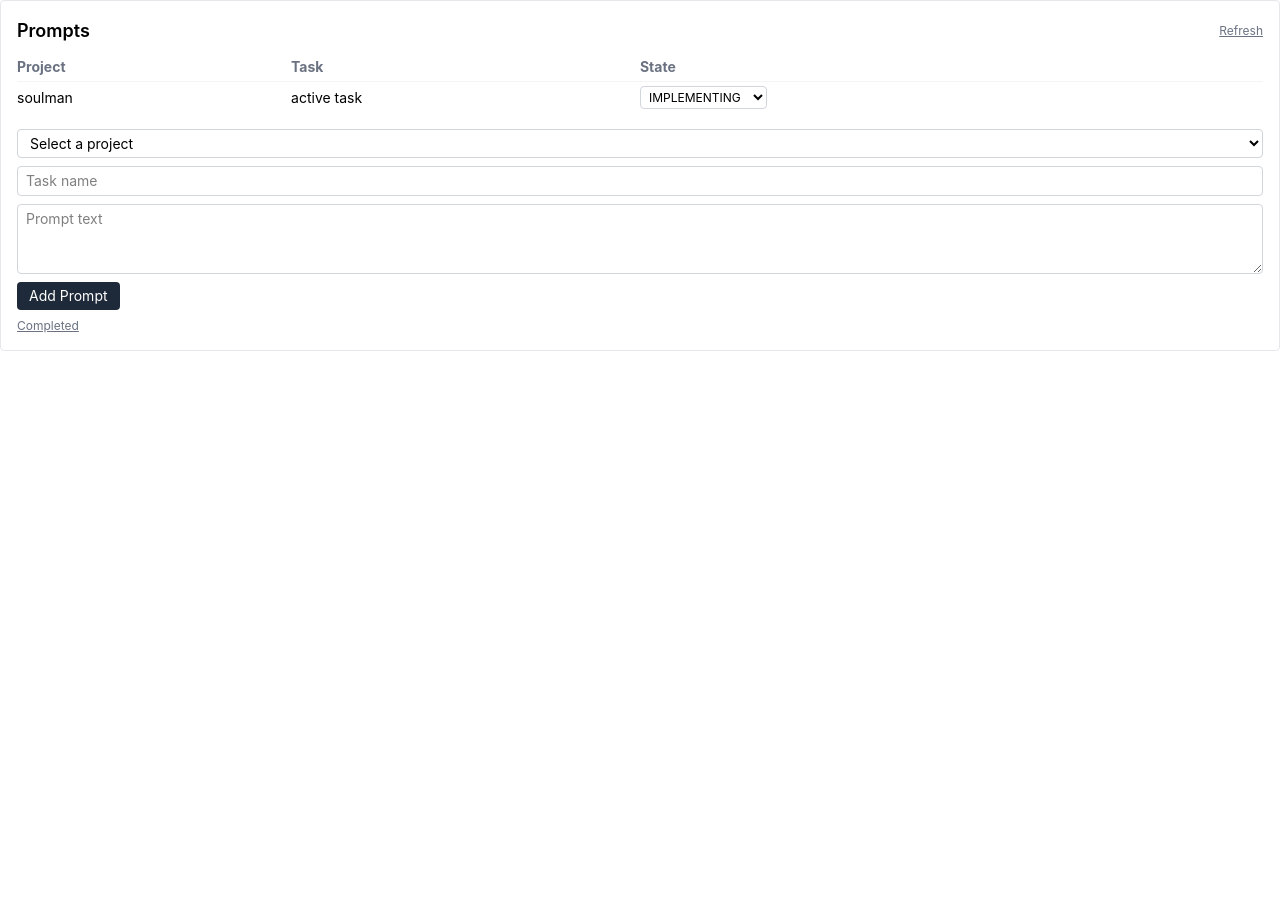
Test: PromptsPanel › closes the modal without disturbing the existing prompts table
The image size is (1280, 900).
Click the button "Completed": (48, 326) [17,318,79,334]
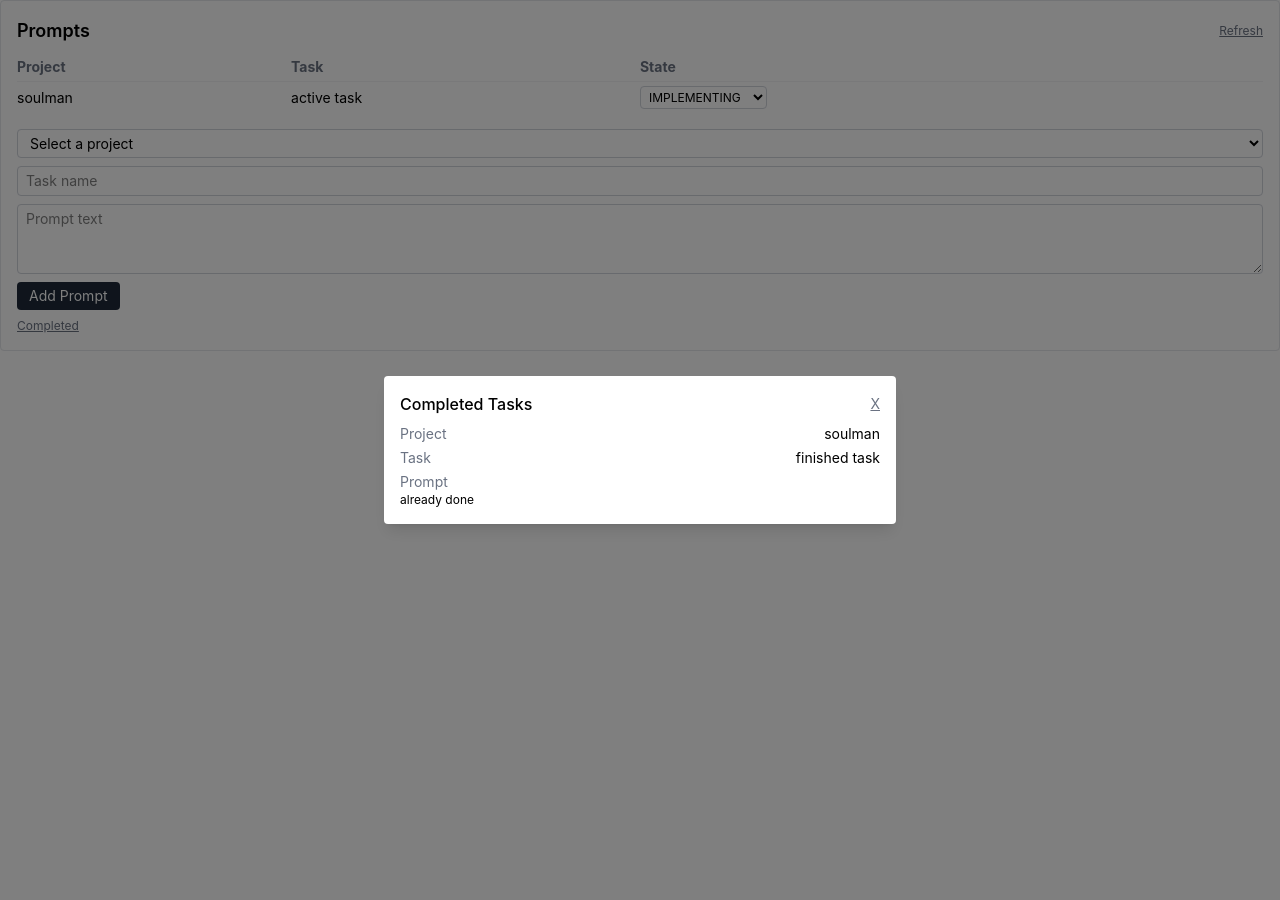
Now the heading "Completed Tasks" is shown, box [400,392,532,416]
Click the button named "Close": (875, 404) [870,394,880,414]
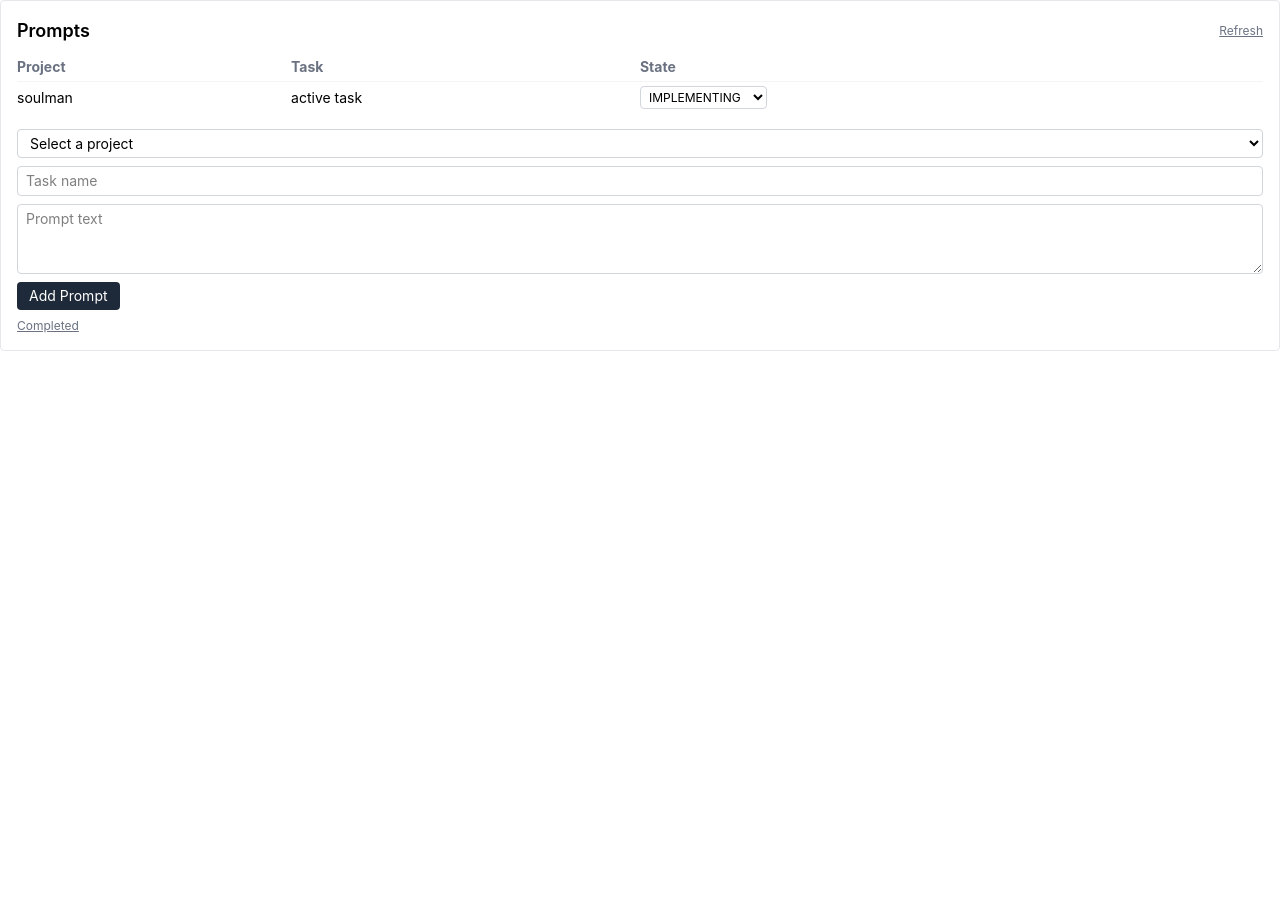
Expected: the text "active task" is shown, [291,82,640,113]
Now the heading "Completed Tasks" is gone
